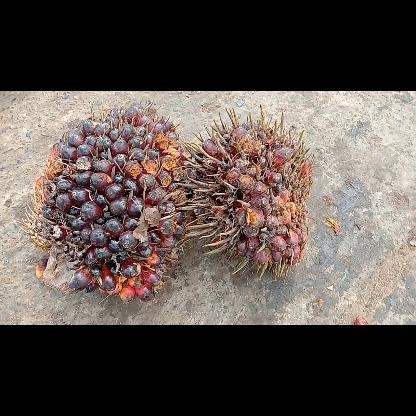Kurang masak: (21, 96, 190, 302)
TBS masak: (177, 104, 313, 282)
